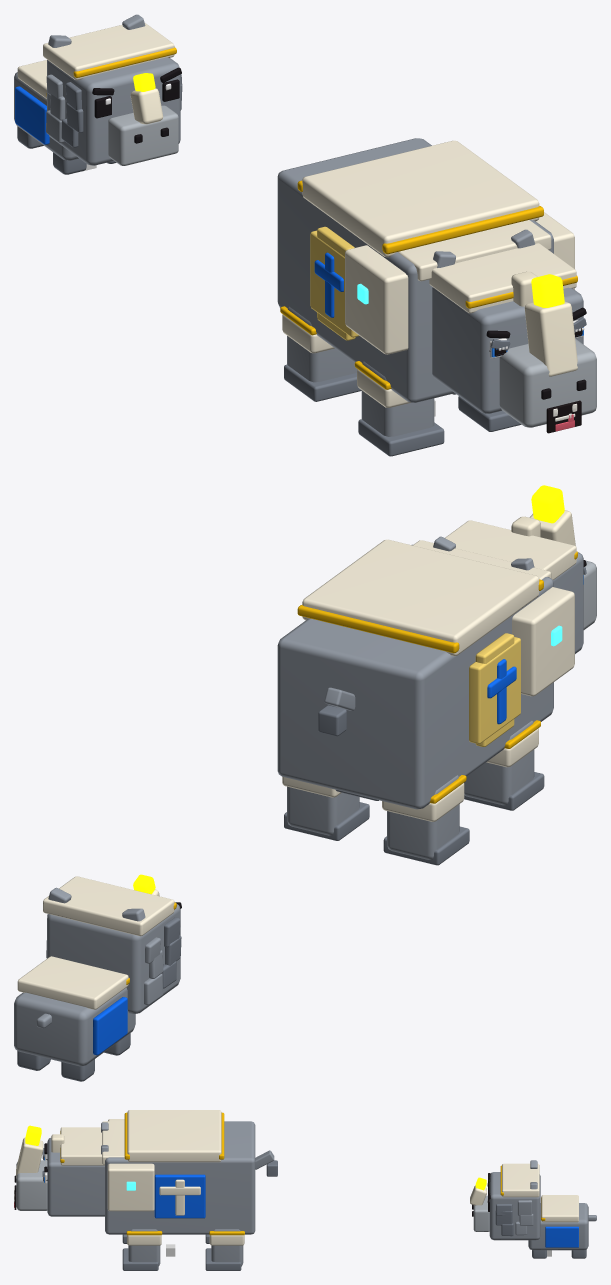
Rendered from Restyle_B06.fbx.
The picture shows the model from 3 angles, top to bottom: view 1: azimuth 30°, elevation 25°; view 2: azimuth 150°, elevation 25°; view 3: azimuth 270°, elevation 25°; orthographic projection. The views are drawn at different scales.
Visible parts, largest first — view 1: B06__Body_Armor, B06__Body, B06__Head, P06__Head, B06__Head_Snout, B06__Head_Armor, P06__Head_Armor, B06__Head_Horn, P06__Head_Snout, B06__Body_Shield, B06__RightFrontLeg, B06__RightBackLeg (+17 smaller); view 2: B06__Body, B06__Body_Armor, P06__Head, P06__Body, P06__Head_Armor, B06__Body_Shield, P06__Body_Armor, B06__Head_Armor, B06__RightBackLeg, B06__LeftBackLeg, B06__RightFrontLeg, B06__Body_Trim (+14 smaller); view 3: B06__Body_Armor, B06__Body, B06__Head, P06__Head, B06__Body_Tabard, B06__Head_Armor, B06__Head_Snout, P06__Head_Armor, P06__Body, P06__Body_Armor, B06__Head_Horn, P06__Body_Tabard (+13 smaller).
Part boxes in pixels (left/top/right/bottom): B06__Body_Armor: left=302, top=140, right=574, bottom=354; B06__Body: left=277, top=138, right=553, bottom=402; B06__Head: left=432, top=229, right=583, bottom=413; P06__Head: left=46, top=14, right=180, bottom=165; B06__Head_Snout: left=499, top=339, right=596, bottom=427; B06__Head_Armor: left=429, top=243, right=576, bottom=313; P06__Head_Armor: left=43, top=23, right=174, bottom=80; B06__Head_Horn: left=511, top=271, right=577, bottom=376; P06__Head_Snout: left=108, top=105, right=178, bottom=165; B06__Body_Shield: left=310, top=226, right=359, bottom=340; B06__RightFrontLeg: left=361, top=361, right=434, bottom=436; B06__RightBackLeg: left=287, top=306, right=356, bottom=382; B06__Body: left=277, top=544, right=553, bottom=809; B06__Body_Armor: left=302, top=539, right=574, bottom=696; P06__Head: left=46, top=887, right=180, bottom=1013; P06__Body: left=14, top=987, right=135, bottom=1066; P06__Head_Armor: left=43, top=876, right=174, bottom=936; B06__Body_Shield: left=469, top=633, right=520, bottom=746; P06__Body_Armor: left=17, top=956, right=128, bottom=1009; B06__Head_Armor: left=445, top=520, right=576, bottom=579; B06__RightBackLeg: left=387, top=775, right=459, bottom=859; B06__LeftBackLeg: left=287, top=786, right=359, bottom=835; B06__RightFrontLeg: left=464, top=721, right=534, bottom=805; B06__Body_Trim: left=297, top=579, right=543, bottom=653; B06__Body_Armor: left=102, top=1110, right=221, bottom=1215; B06__Body: left=105, top=1121, right=255, bottom=1234; B06__Head: left=47, top=1122, right=108, bottom=1216; P06__Head: left=489, top=1160, right=540, bottom=1240; B06__Body_Tabard: left=154, top=1174, right=205, bottom=1218; B06__Head_Armor: left=60, top=1127, right=104, bottom=1165; B06__Head_Snout: left=16, top=1160, right=47, bottom=1210; P06__Head_Armor: left=502, top=1163, right=539, bottom=1197; P06__Body: left=528, top=1203, right=596, bottom=1250; P06__Body_Armor: left=541, top=1195, right=578, bottom=1222; B06__Head_Horn: left=16, top=1134, right=64, bottom=1177; P06__Body_Tabard: left=545, top=1226, right=578, bottom=1247.
Size of the model in its own units: 1350 by 1488 by 6196.
